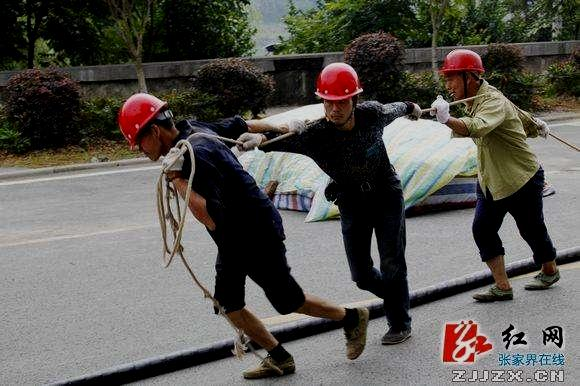helmet: (114, 90, 176, 166), (312, 59, 365, 126), (440, 47, 486, 106)
not_reflective: (171, 114, 256, 244), (294, 111, 398, 196), (461, 81, 532, 189)
